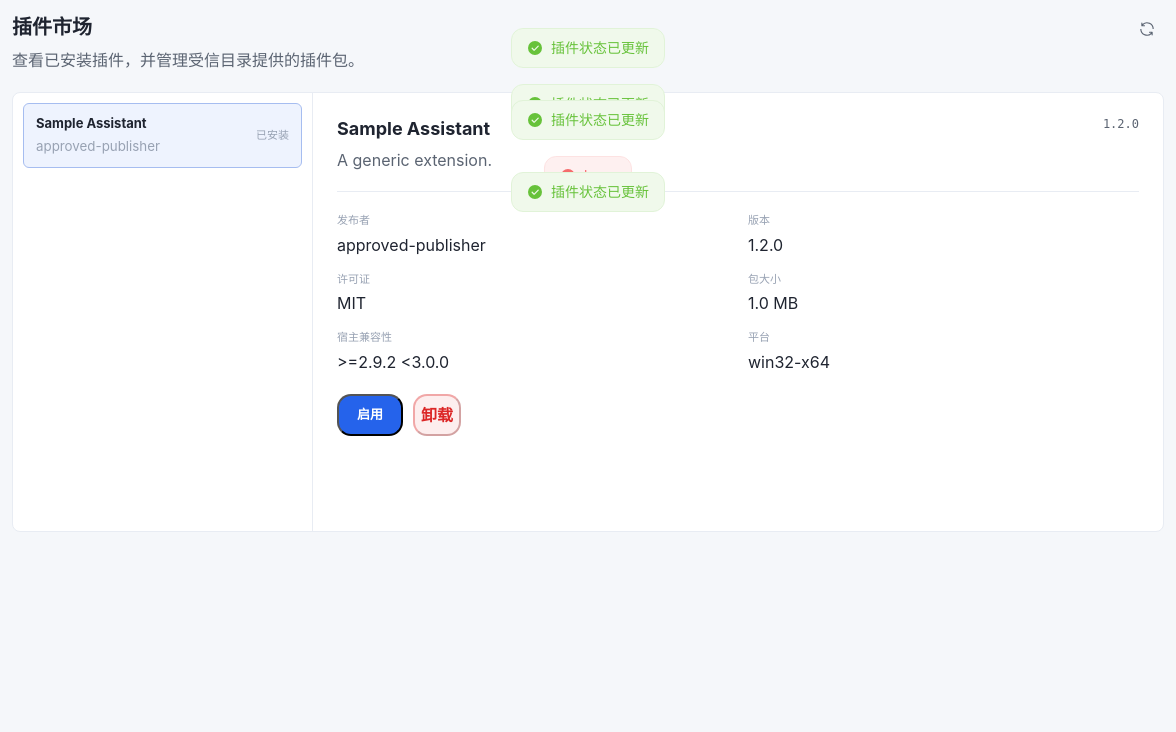
Test: MarketplaceSettingsPage › surfaces an enable failure as a toast and does not reload
The image size is (1176, 732).
Click the button "启用": coordinates (370, 415) [337, 394, 403, 436]
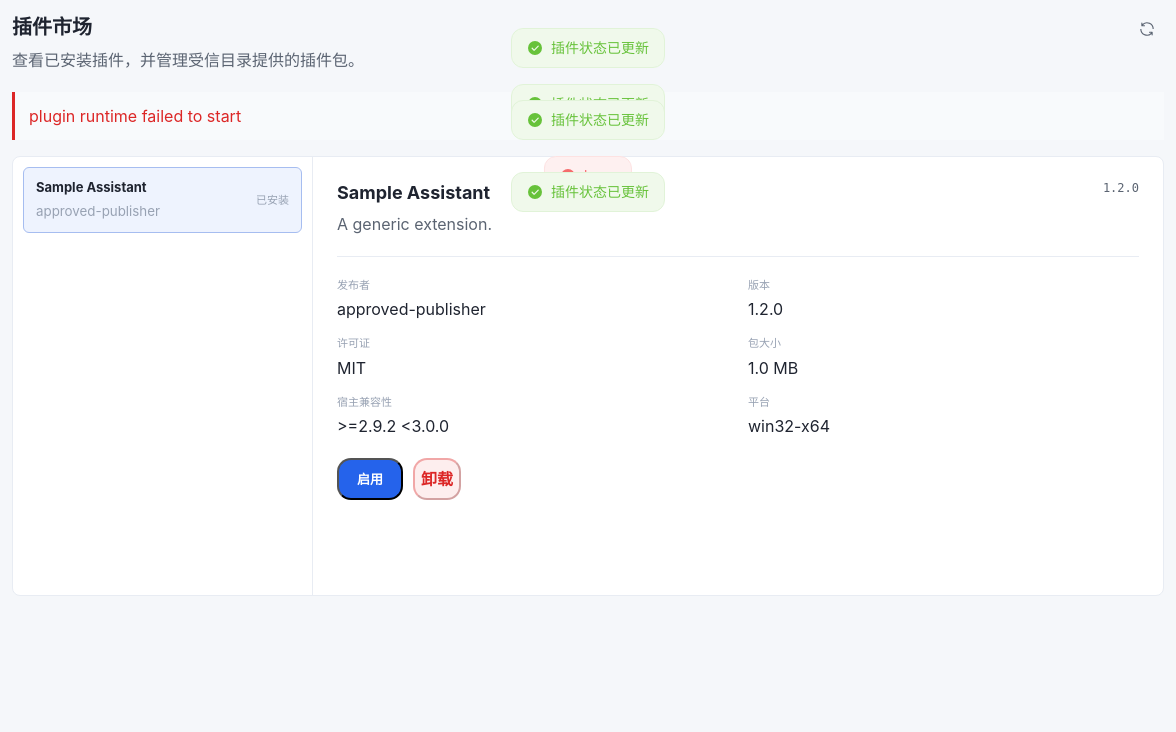
Check: the message with class "marketplace-error" reads "plugin runtime failed to start", box [29, 106, 241, 126]
